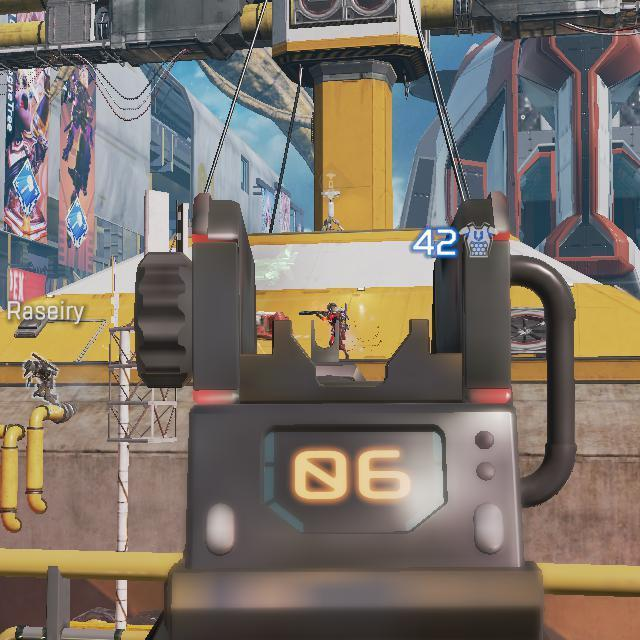avatar: (23, 358, 58, 406), (326, 302, 350, 360)
